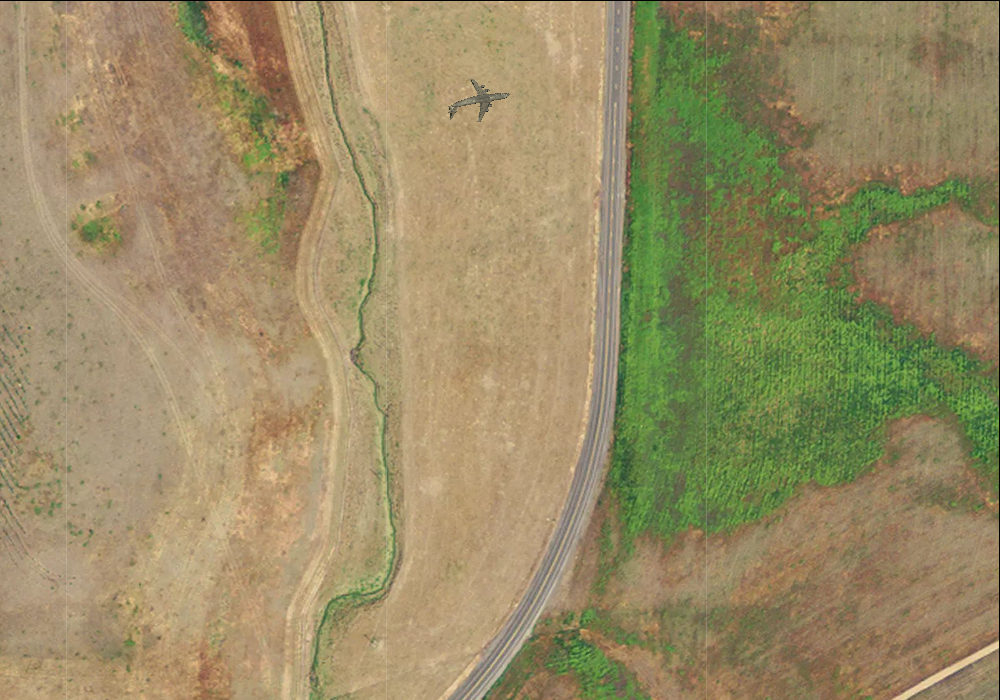plane: (442, 70, 514, 135)
